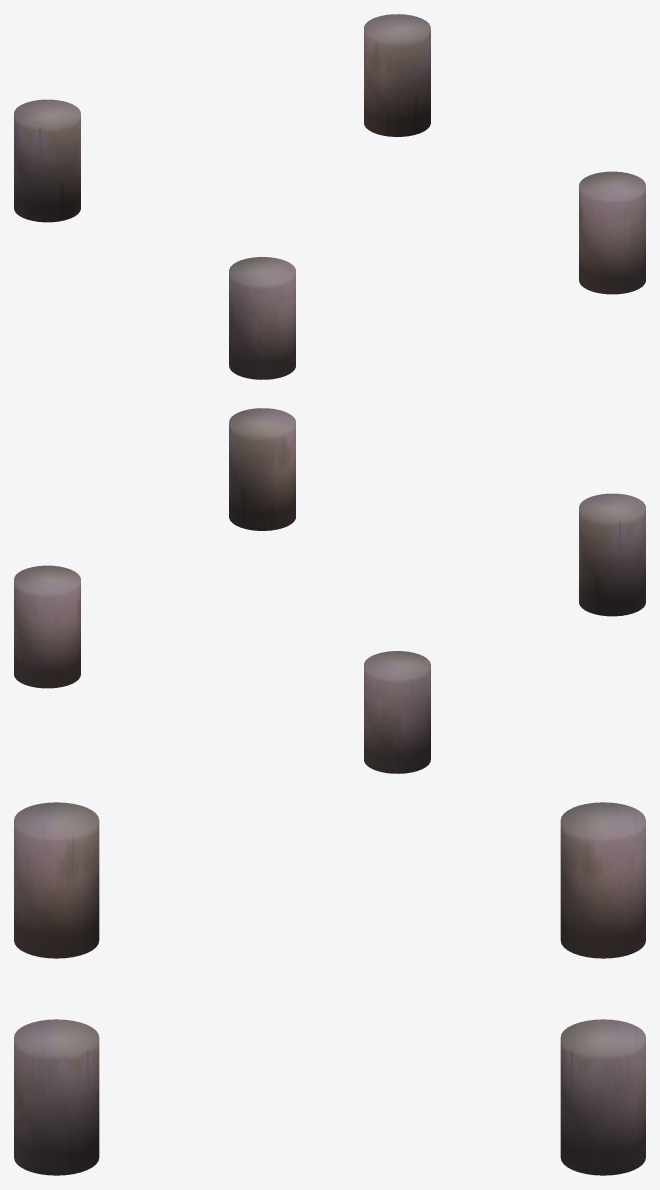
The model's file is cauldronpillar.glb.
The picture shows the model from 3 angles, top to bottom: view 1: azimuth 30°, elevation 25°; view 2: azimuth 150°, elevation 25°; view 3: azimuth 270°, elevation 25°; orthographic projection. The views are drawn at different scales.
Visible parts, largest first — view 1: Pillars; view 2: Pillars; view 3: Pillars.
Boxes of the visible parts, bbox=[...] form: Pillars: bbox=[14, 14, 645, 379]; Pillars: bbox=[14, 408, 645, 773]; Pillars: bbox=[14, 802, 645, 1175].
Bounding box in the file's own units: 7.23 × 1.6 × 7.63.
1 material, 1 textured.
